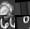mirror: (0, 0, 15, 15)
